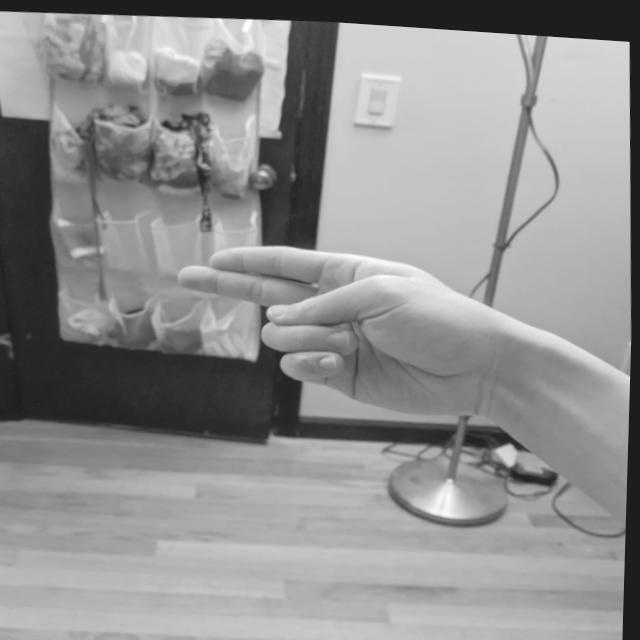H: (163, 223, 496, 433)
